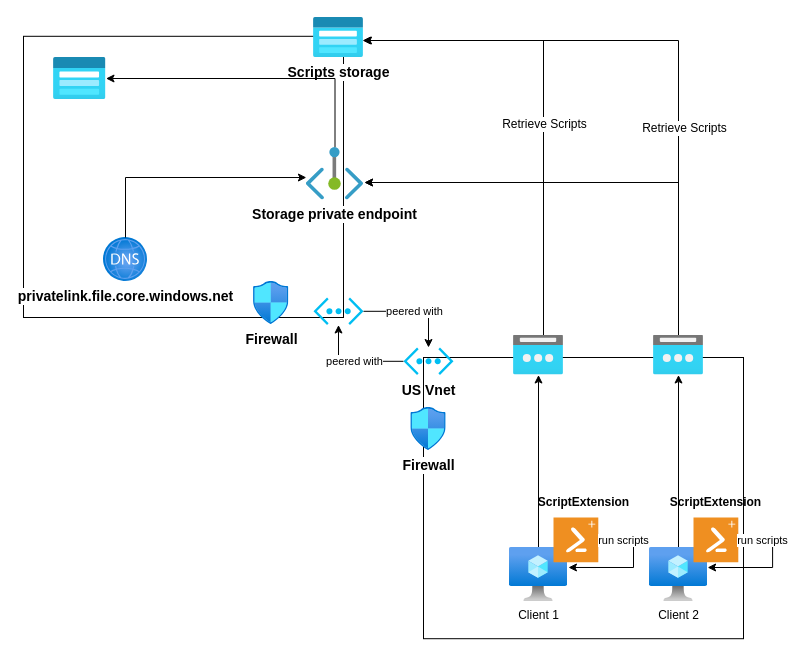
Image size: 805x656. Some labels were removed from this diagram. Here are the shapes that lost their labels. From the top down, the centre of each, then its label:
At point 79,78: "Fileshare storage".
At point 338,310: "EU VNet".
At point 538,354: "Client 1 Public IP".
At point 678,354: "Client 2 Public IP".
